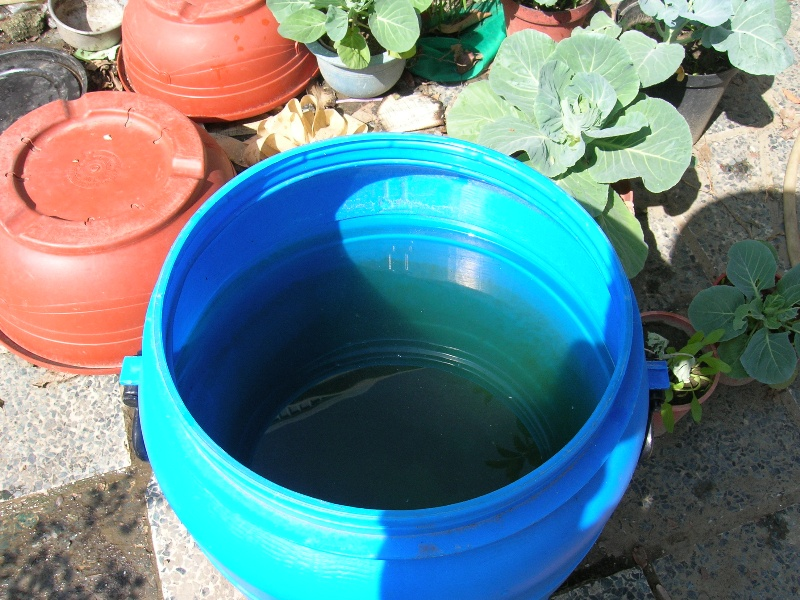bowl: (1, 84, 235, 376), (114, 1, 317, 127), (47, 1, 123, 50)
bucket: (135, 130, 653, 600)
